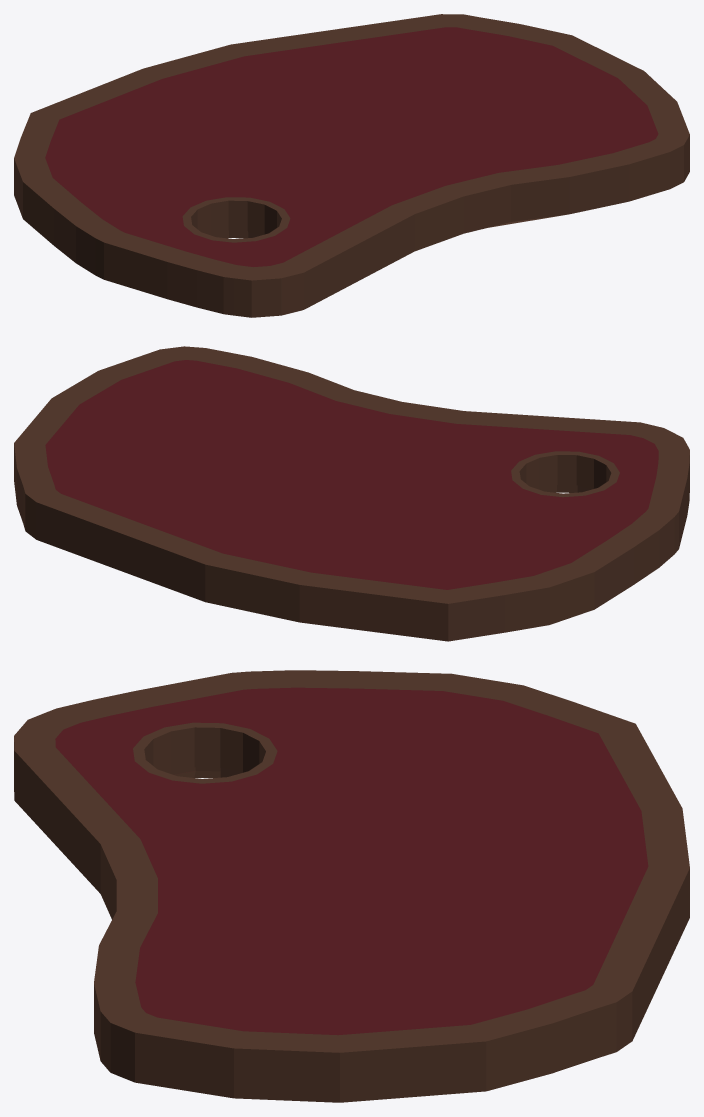
File: Item_Steak.fbx
3 views of the same model, one above another, from view 1: azimuth 30°, elevation 25°; view 2: azimuth 150°, elevation 25°; view 3: azimuth 270°, elevation 25° (orthographic). The views are drawn at different scales.
Visible parts, largest first — view 1: Cube; view 2: Cube; view 3: Cube.
Part boxes in pixels (x1=…): Cube: x1=14, y1=14, x2=689, y2=317; Cube: x1=14, y1=346, x2=689, y2=641; Cube: x1=14, y1=670, x2=689, y2=1102.
Bounding box in the file's own units: 286 × 17.86 × 214.
